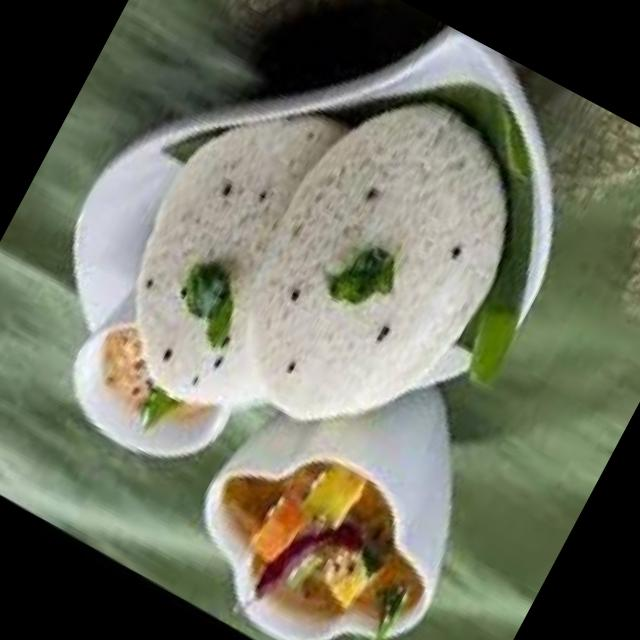idli: (199, 64, 554, 475), (78, 68, 396, 441)
